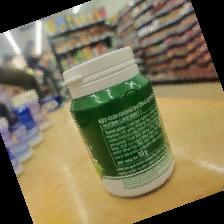Xylitol_green: (61, 46, 177, 198)
